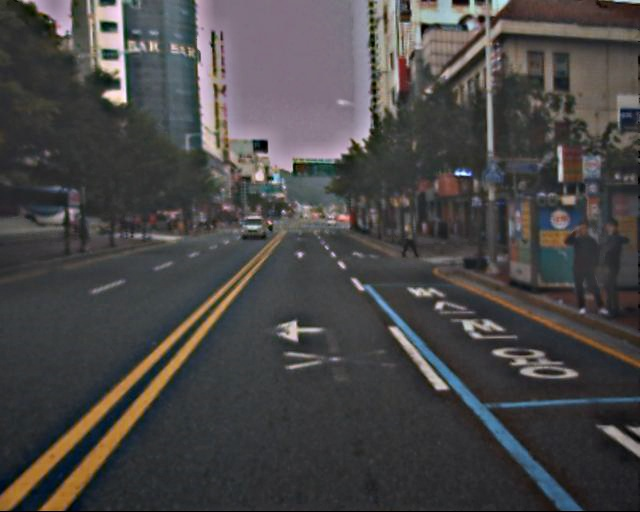person: (580, 217, 629, 318), (559, 222, 605, 315), (400, 218, 418, 261)
